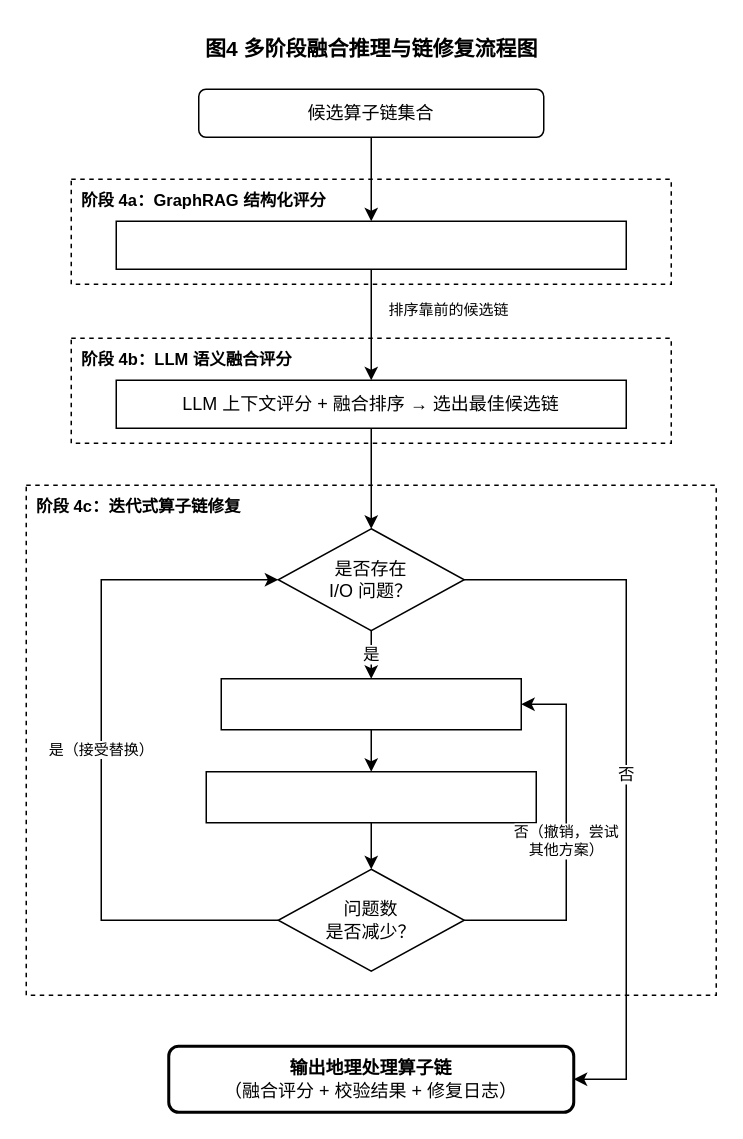
This 743x1139 diagram has some shape labels left out. The shapes that lost their labels are listed below. From the top down, each one's centre as x and y in pixels, then its label:
At point (370, 244): "计算结构化评分（I/O 兼容性、存在性、链校验）".
At point (370, 703): "问题定位与替代算子检索".
At point (370, 796): "LLM 选择替代、替换与重新验证".
